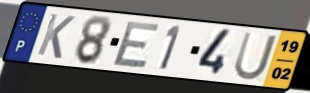1: (158, 24, 183, 72)
4: (196, 27, 230, 79)
8: (73, 13, 113, 67)
E: (110, 20, 163, 70)
K: (34, 12, 77, 61)
U: (231, 30, 279, 82)
